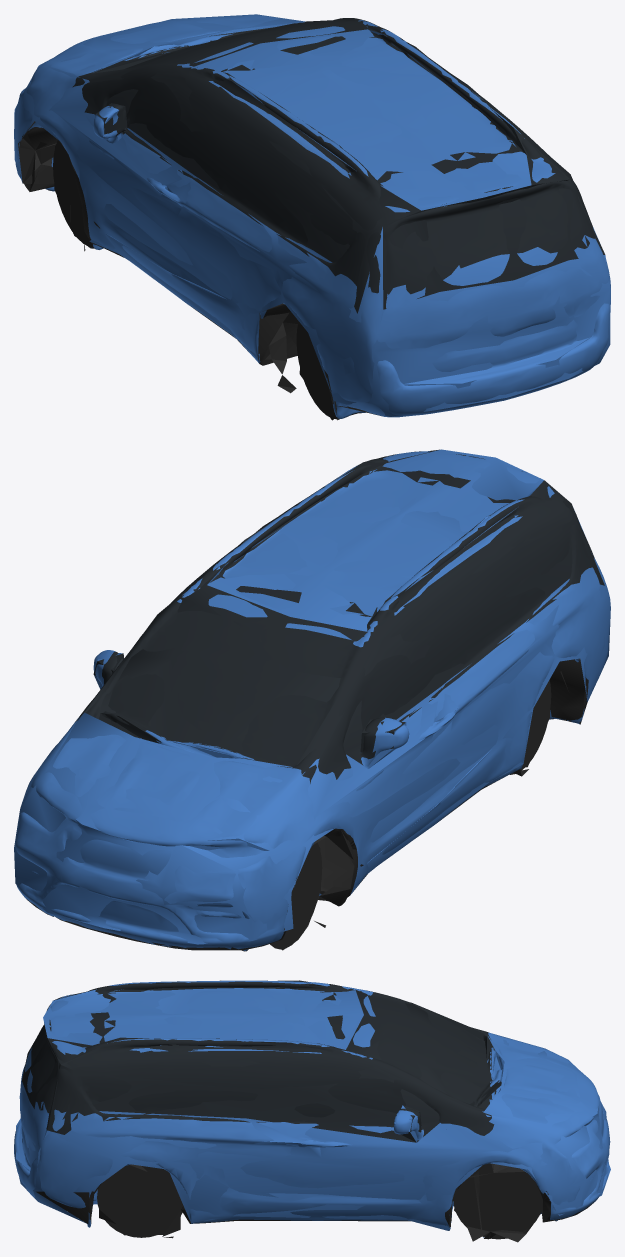
Rendered from chrysler-pacifica.glb.
The picture shows the model from 3 angles, top to bottom: view 1: azimuth 30°, elevation 25°; view 2: azimuth 150°, elevation 25°; view 3: azimuth 270°, elevation 25°; orthographic projection. The views are drawn at different scales.
Parts seen in each view (by area): view 1: body, far; view 2: body, far; view 3: body, far.
Part boxes in pixels (x1=…): body: x1=14, y1=15, x2=610, y2=419; far: x1=14, y1=14, x2=610, y2=420; body: x1=15, y1=451, x2=610, y2=951; far: x1=14, y1=449, x2=610, y2=950; body: x1=14, y1=980, x2=610, y2=1242; far: x1=16, y1=980, x2=610, y2=1241.
Size of the model in its own units: 2.34 by 1.85 by 5.2.
